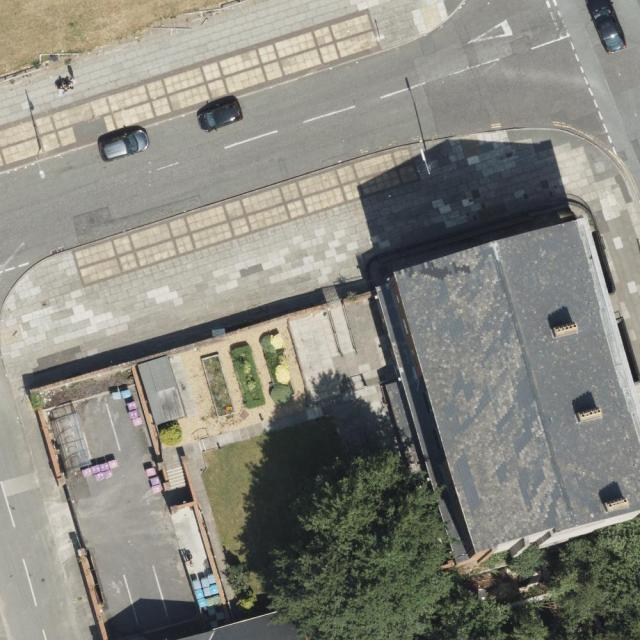roof: (395, 218, 640, 552)
